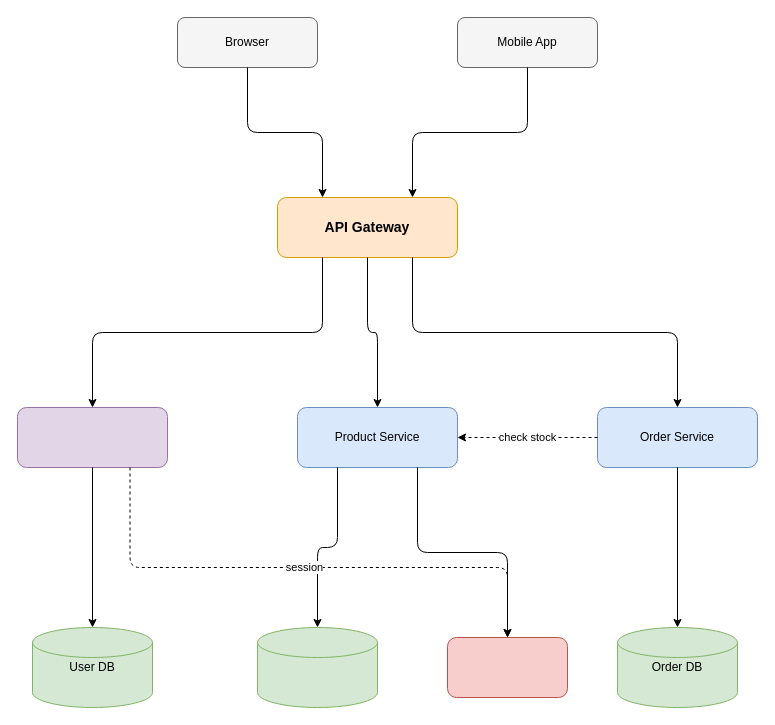
The diagram is 775 pixels wide and 725 high, and some of its shapes have lost their labels. The shapes that lost their labels are listed below. From the top down, each one's box as (x1, y1, x2, y2) in pixels, then its label:
(16, 406, 168, 468): Auth Service
(256, 626, 378, 708): Product DB
(446, 636, 568, 698): Redis Cache
